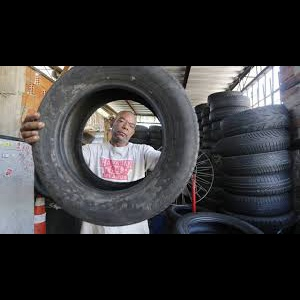tire: (32, 66, 200, 227), (219, 104, 290, 137), (215, 129, 289, 160), (220, 148, 293, 177), (176, 213, 264, 234), (223, 171, 292, 193), (219, 191, 291, 212), (206, 105, 253, 120), (207, 93, 251, 109)
